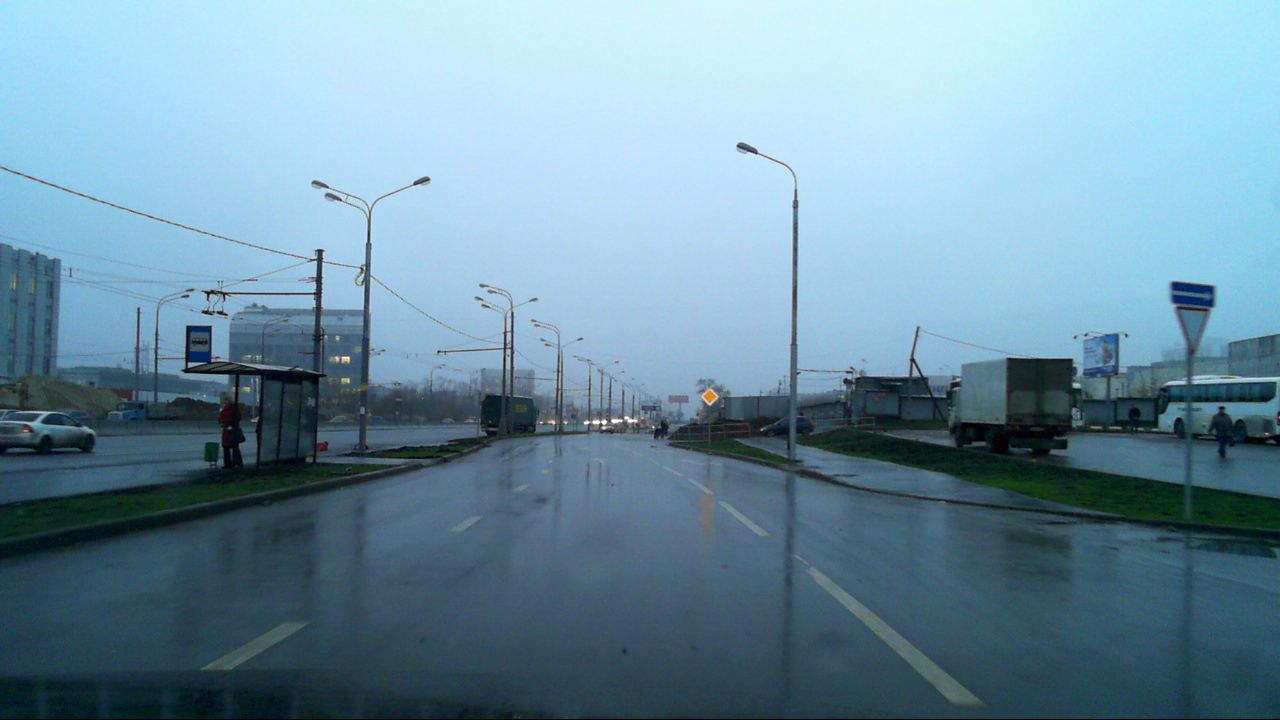One-Way Traffic: (1171, 281, 1215, 306)
